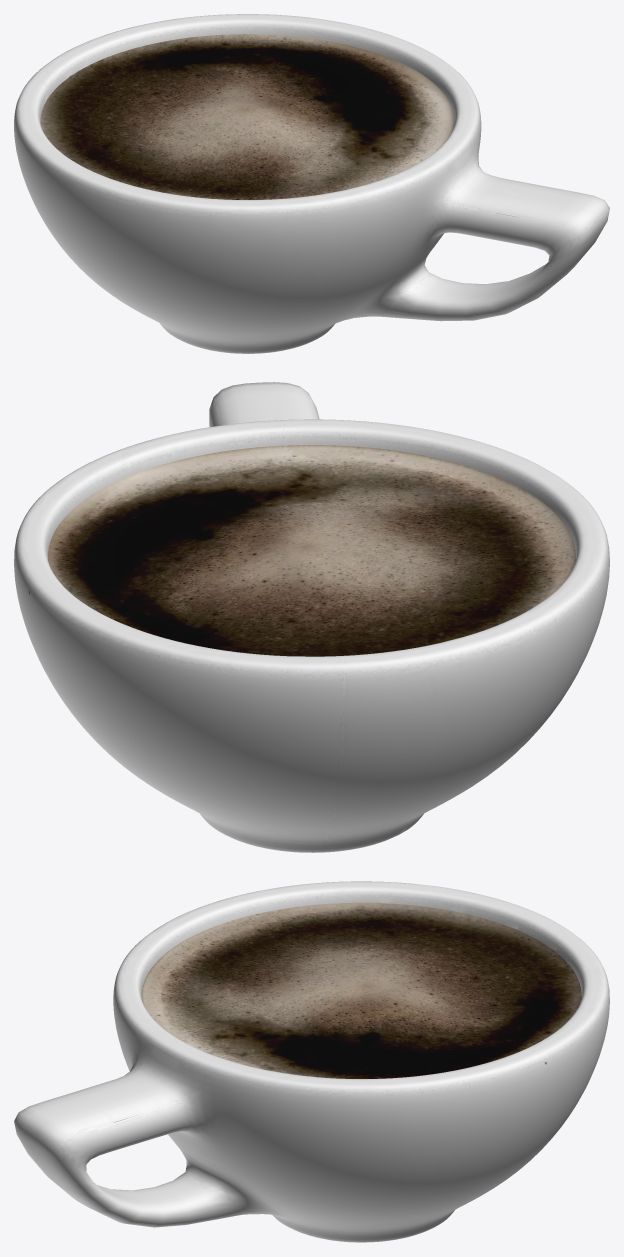
File: coffee_cup-BixcuivL.glb
3 renders of one model, top to bottom at view 1: azimuth 30°, elevation 25°; view 2: azimuth 150°, elevation 25°; view 3: azimuth 270°, elevation 25°, orthographic. The views are drawn at different scales.
Parts seen in each view (by area): view 1: StudyShelf_2344; view 2: StudyShelf_2344; view 3: StudyShelf_2344.
Part boxes in pixels (x1,y1,x2,y2): StudyShelf_2344: [14, 14, 609, 353]; StudyShelf_2344: [14, 382, 609, 852]; StudyShelf_2344: [14, 881, 609, 1242].
Bounding box in the file's own units: 22 × 10.44 × 25.36.
2 materials, 2 textured.
